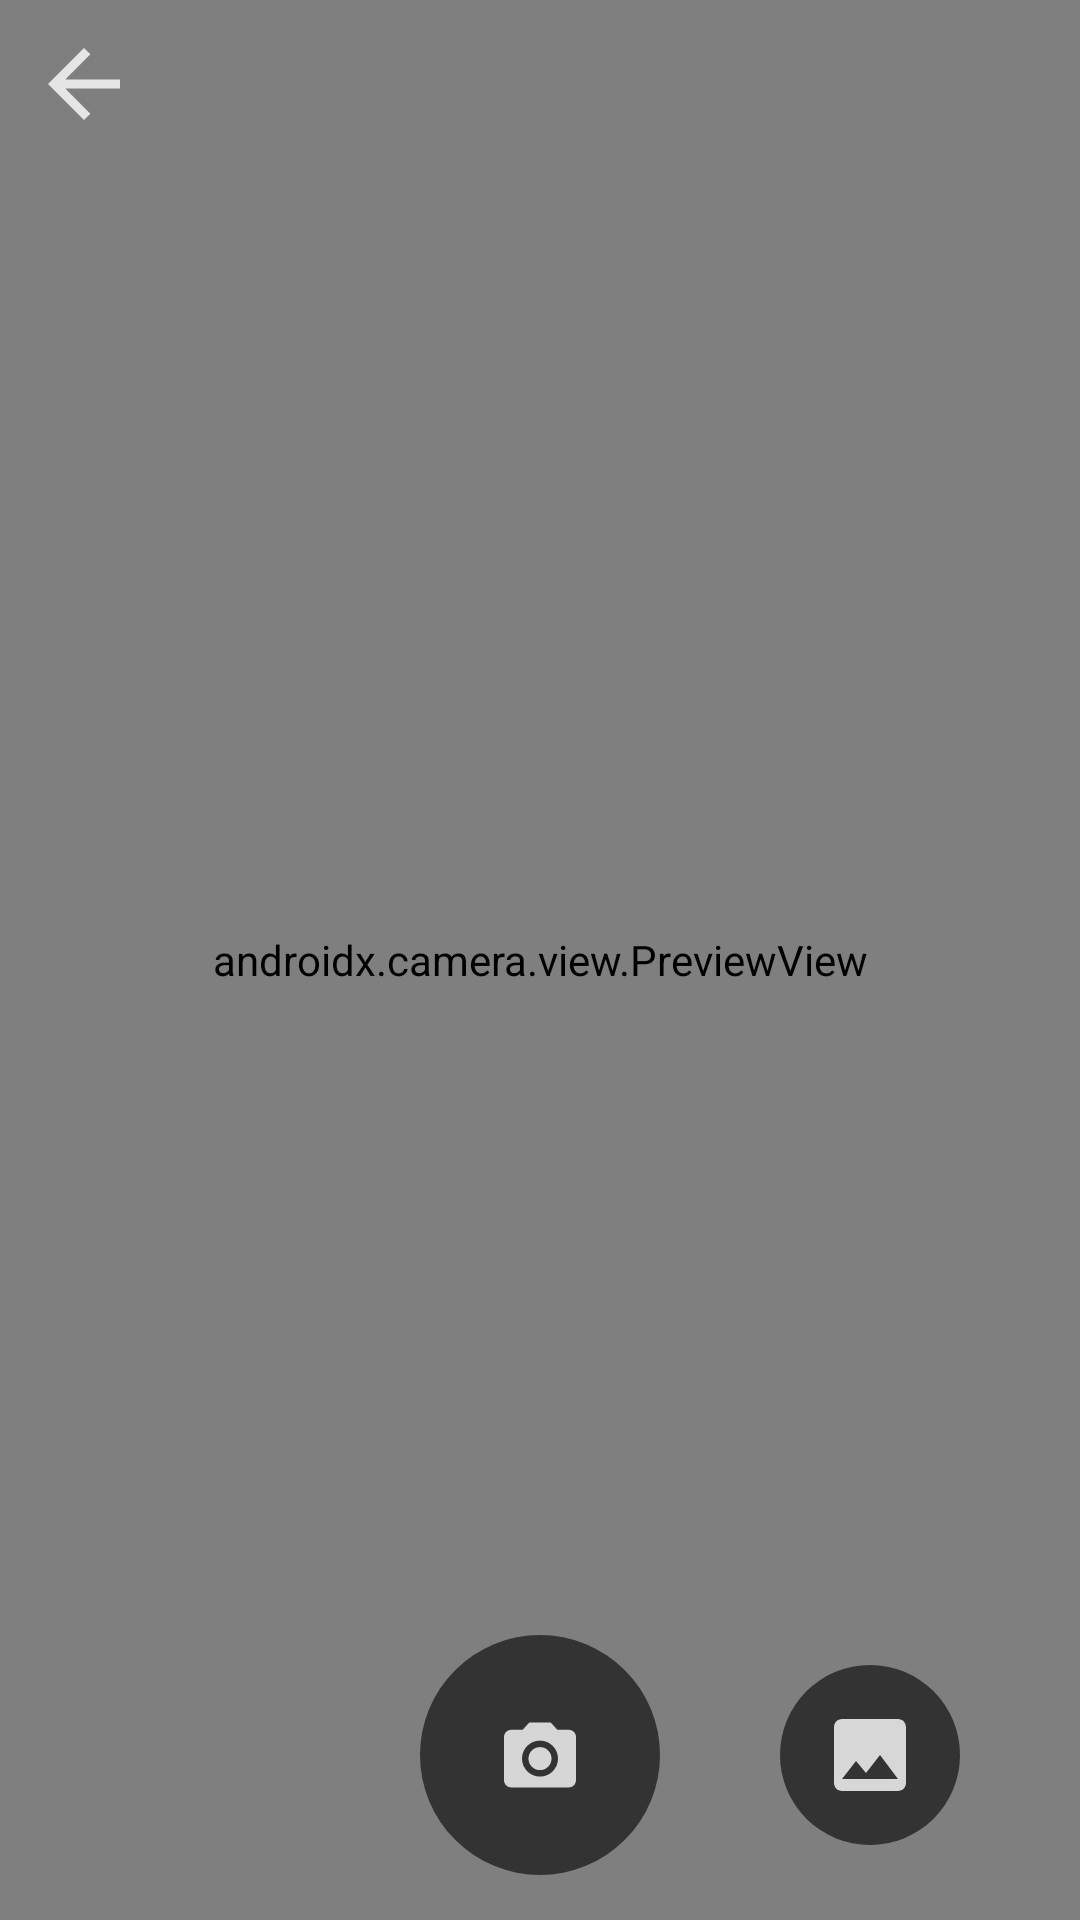

Where to tap for icons on this 1080x1920 app screen, as point (x, y):
arrow back: point (84, 84)
